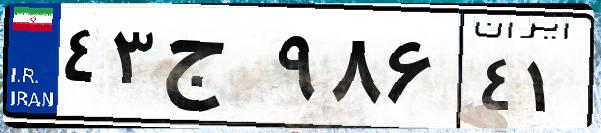1: (525, 38, 570, 115)
3: (110, 28, 158, 98)
4: (57, 26, 110, 100), (475, 38, 525, 113)
6: (385, 28, 445, 110)
8: (330, 28, 385, 110)
9: (270, 28, 330, 110)
ج: (158, 20, 270, 120)
